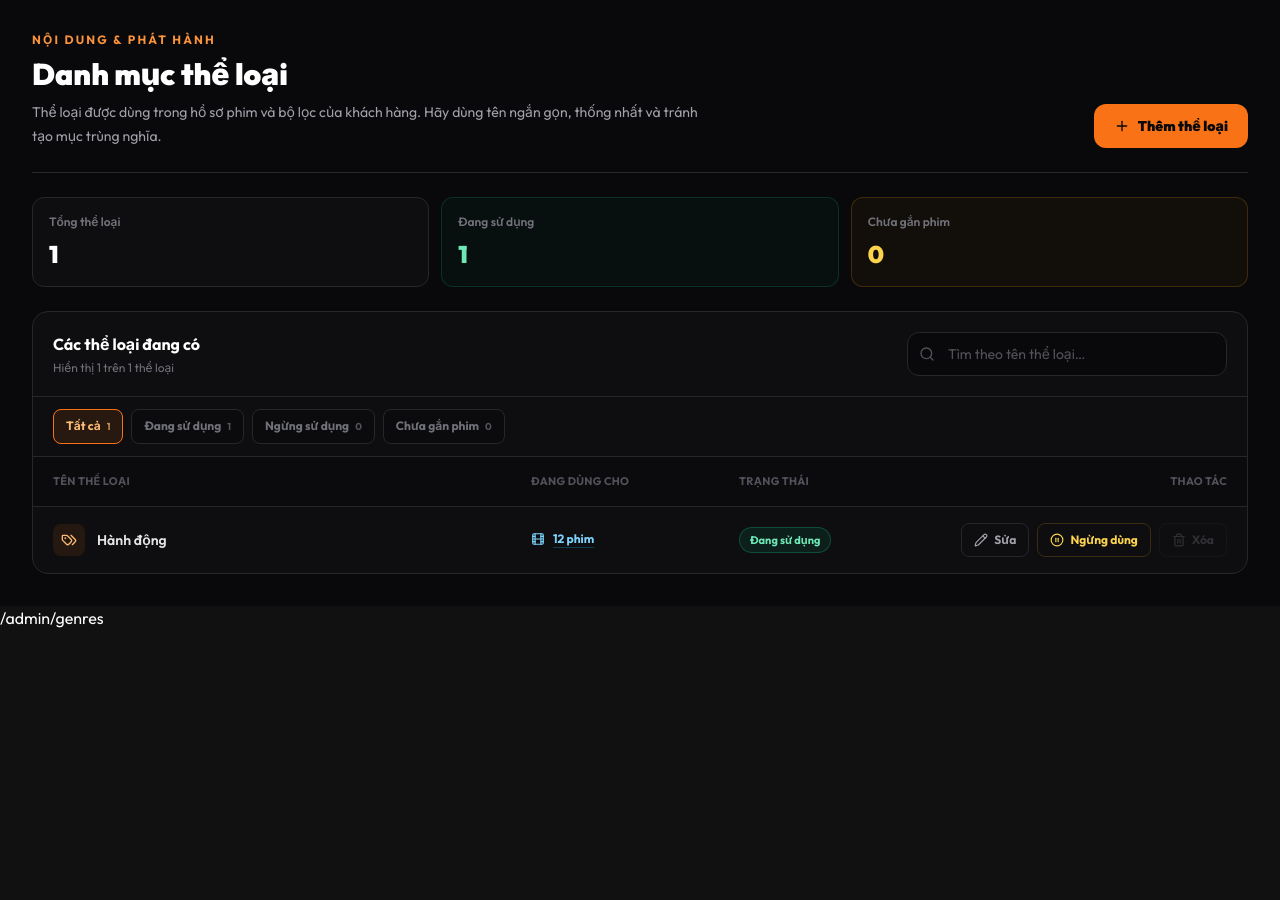
AdminGenrePage › warns and blocks genre names that only differ by the Phim prefix
The width and height of the screenshot is (1280, 900).
Expected: the text "Hành động" is shown, x1=97 y1=530 x2=167 y2=550
Click the button with test id "create-genre-btn".
click(1171, 126)  # box x1=1094 y1=104 x2=1248 y2=148
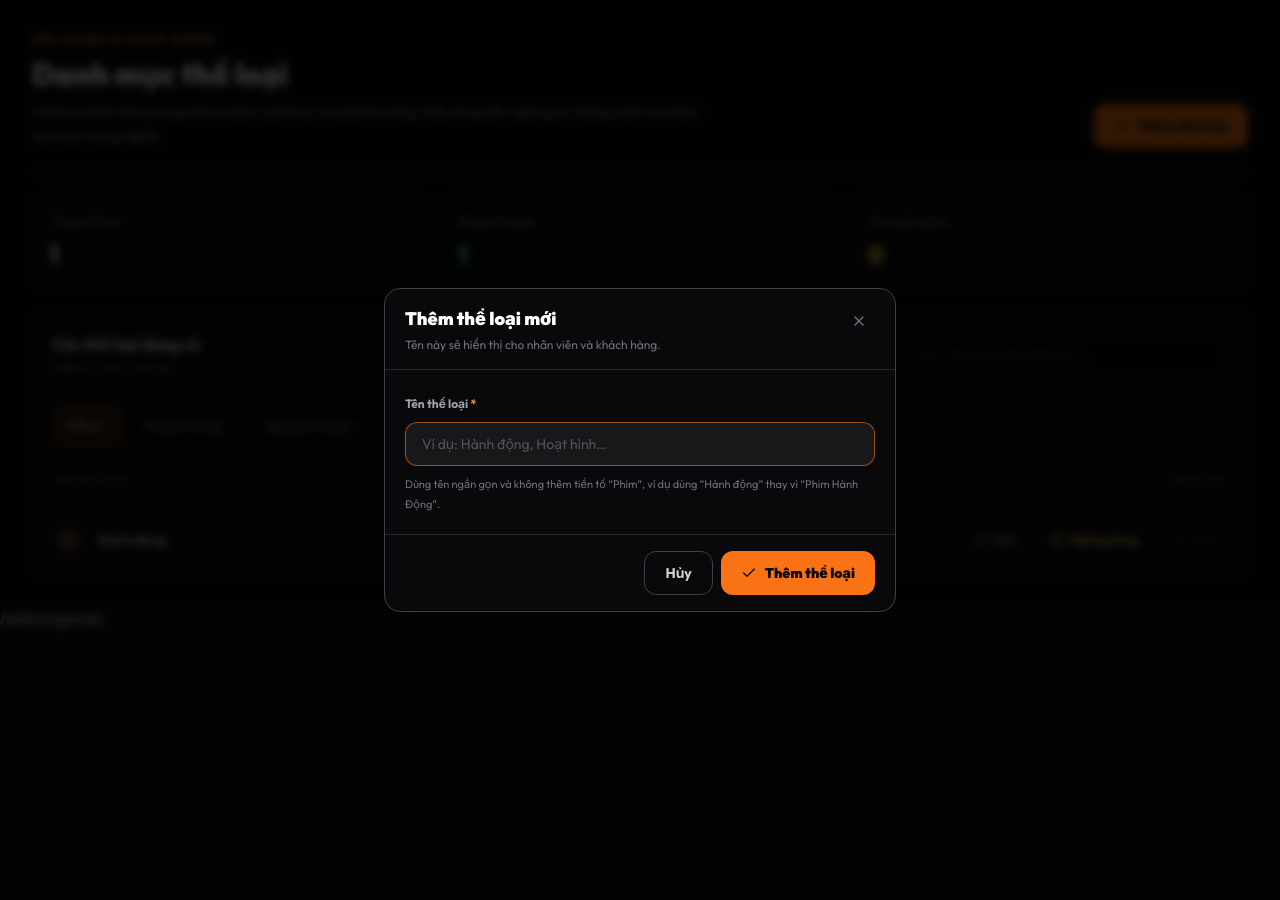
Type "Phim Hành Động" into the field with test id "genre-name-input".
click(640, 444); type("Phim Hành Động")  # box x1=405 y1=422 x2=875 y2=466
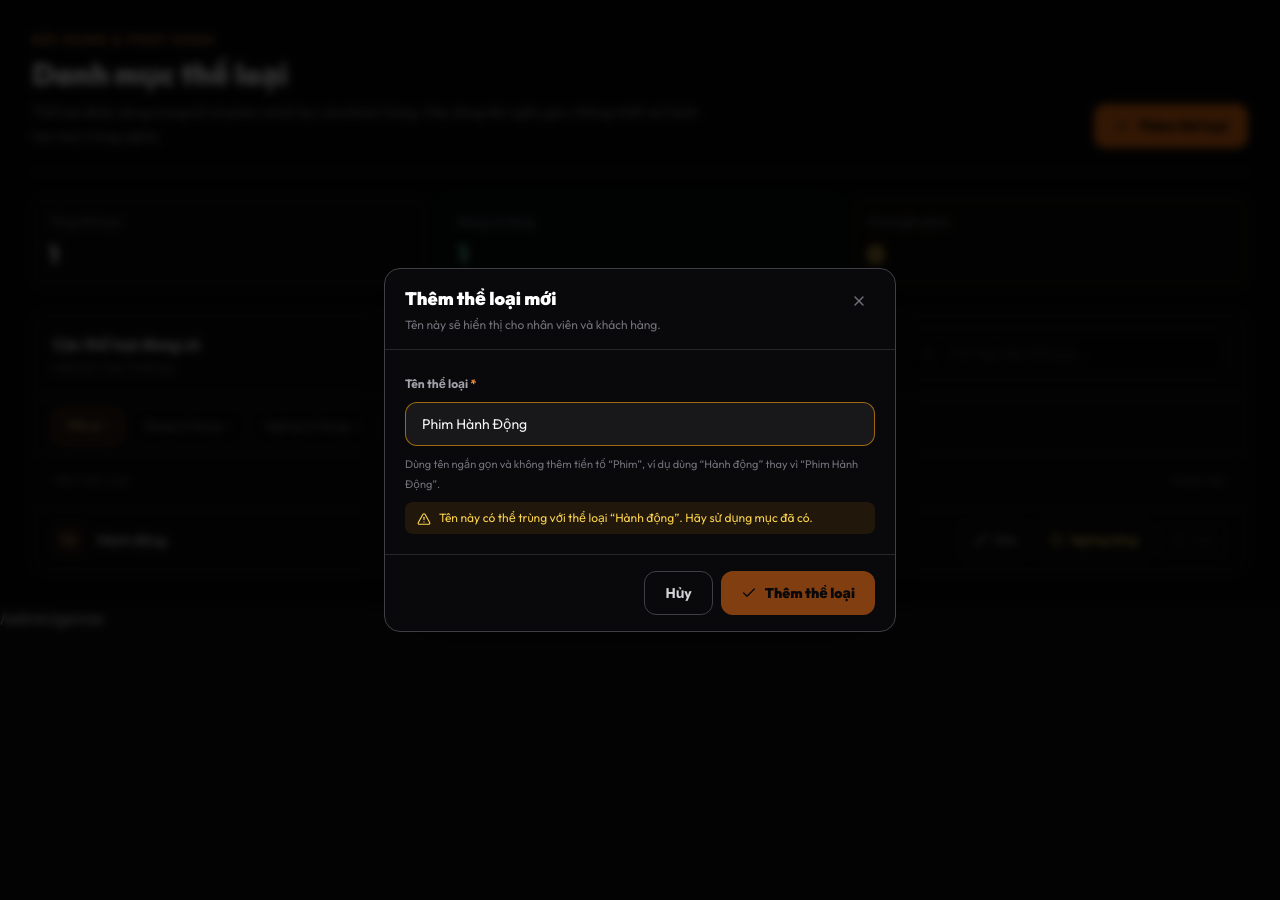
Result: the message shows "Tên này có thể trùng với thể loại “Hành động”" at x1=405 y1=502 x2=875 y2=534
Result: the button with test id "genre-submit-btn" is disabled at x1=721 y1=571 x2=875 y2=615
